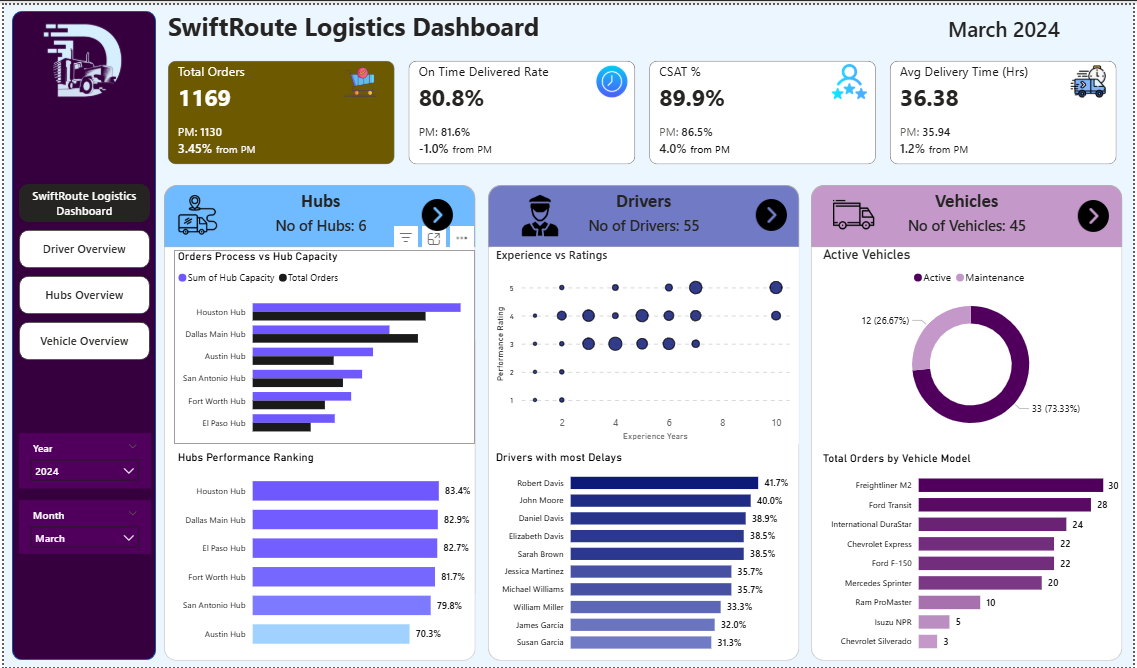

Layout of this report page (visuals, bound fields, positions):
{"tool":"powerbi","page":{"name":"SwiftRoute Logistics Dashboard","canvas":[1450,850],"ordinal":0},"visuals":[{"type":"textbox","box":[205.5,0,505.8,53.7],"z":0},{"type":"shape","box":[10.3,8,185,833.5],"z":1000},{"type":"cardVisual","fields":{"Data":["Orders.Total Orders","Orders.On Time Delivered Rate","Orders.CSAT %","Orders.Avg Delivery Time (Hrs)"]},"box":[205.3,61.8,1231.6,148.7],"z":2000},{"type":"slicer","fields":{"Values":["Date Table.Year"]},"box":[19.6,550,169,70.8],"z":3000},{"type":"slicer","fields":{"Values":["Date Table.Month"]},"box":[19.6,635.7,169,68.5],"z":4000},{"type":"shape","box":[205.5,230.6,400,610.8],"z":5000},{"type":"shape","box":[205.5,230.6,399.6,79.9],"z":6000},{"type":"shape","box":[621.1,230.6,399.6,610.8],"z":7000},{"type":"shape","box":[1036.7,230.6,399.6,610.8],"z":8000},{"type":"shape","box":[621.1,230.6,399.6,79.9],"z":9000},{"type":"shape","box":[1036.7,230.6,399.6,79.9],"z":10000},{"type":"textbox","box":[218.1,230.6,376.8,40],"z":11000},{"type":"textbox","box":[621.1,230.6,399.6,40],"z":12000},{"type":"textbox","box":[1036.7,230.6,399.6,40],"z":13000},{"type":"cardVisual","fields":{"Data":["Hubs.No of Hubs"]},"box":[301.4,260.3,210.1,41.1],"z":14000},{"type":"cardVisual","fields":{"Data":["Drivers.No of Drivers"]},"box":[715.9,260.3,210.1,41.1],"z":15000},{"type":"cardVisual","fields":{"Data":["Vehicles.No of Vehicles"]},"box":[1131.5,260.3,210.1,41.1],"z":16000},{"type":"clusteredBarChart","title":"Orders Process vs Hub Capacity","fields":{"Category":["Hubs.HubName"],"Y":["Sum(Hubs.Hub Capacity)","Orders.Total Orders"]},"box":[218.1,314,387,250],"z":17000},{"type":"barChart","title":"Hubs Performance Ranking","fields":{"Category":["Hubs.HubName"],"Y":["Orders.On Time Delivered Rate"]},"box":[218.1,573.1,387,268.3],"z":18000},{"type":"scatterChart","title":"Experience vs Ratings","fields":{"X":["Drivers.Experience Years"],"Y":["Drivers.Performance Rating"],"Size":["Sum(Drivers.Experience Years)1"]},"box":[626.8,310.6,393.9,253.5],"z":19000},{"type":"barChart","title":"Drivers with most Delays","fields":{"Category":["Drivers.DriverName"],"Y":["Orders.Delayed Delivery Rate"]},"box":[626.8,573.1,393.9,268.3],"z":20000},{"type":"donutChart","title":"Active Vehicles","fields":{"Category":["Vehicles.Vehicle Status"],"Y":["CountNonNull(Vehicles.Vehicle ID)"]},"box":[1046.1,310.5,389.5,253.9],"z":21000},{"type":"barChart","fields":{"Category":["Vehicles.Vehicle Model"],"Y":["Orders.Total Orders"]},"box":[1045.8,573.4,389.7,267.5],"z":22000},{"type":"image","box":[18.4,14.5,168.4,122.4],"z":23000},{"type":"cardVisual","fields":{"Data":["Orders.Year Month Title"]},"box":[1178.3,8,210.1,41.1],"z":24000},{"type":"image","box":[964.5,248.7,42.1,40.8],"z":25000},{"type":"image","box":[652.6,243.4,72.4,52.6],"z":26000},{"type":"image","box":[535.5,248.7,42.1,40.8],"z":27000},{"type":"image","box":[1377.6,250,42.1,40.8],"z":28000},{"type":"pageNavigator","box":[19.7,230.3,168.4,226.3],"z":29000},{"type":"image","box":[218.4,243.4,60.5,51.3],"z":30000},{"type":"image","box":[1057.9,76.3,55.3,44.7],"z":31000},{"type":"image","box":[757.9,76.3,46.1,44.7],"z":32000},{"type":"image","box":[422.4,76.3,69.7,44.7],"z":33000},{"type":"image","box":[1046.1,242.1,89.5,52.6],"z":34000},{"type":"image","box":[1363.2,76.3,56.6,44.7],"z":35000}]}

Visuals, with their boxes on the page's 1450x850 design canvas (x1, y1, x2, y2). These are canvas units, not pixel positions in the 1137x668 screenshot, which may show the page scaled, cropped or inside an application window:
textbox: region(206, 0, 711, 54)
shape: region(10, 8, 195, 842)
cardVisual - Orders.Total Orders x Orders.On Time Delivered Rate: region(205, 62, 1437, 210)
slicer - Date Table.Year: region(20, 550, 189, 621)
slicer - Date Table.Month: region(20, 636, 189, 704)
shape: region(206, 231, 606, 841)
shape: region(206, 231, 605, 310)
shape: region(621, 231, 1021, 841)
shape: region(1037, 231, 1436, 841)
shape: region(621, 231, 1021, 310)
shape: region(1037, 231, 1436, 310)
textbox: region(218, 231, 595, 271)
textbox: region(621, 231, 1021, 271)
textbox: region(1037, 231, 1436, 271)
cardVisual - Hubs.No of Hubs: region(301, 260, 512, 301)
cardVisual - Drivers.No of Drivers: region(716, 260, 926, 301)
cardVisual - Vehicles.No of Vehicles: region(1132, 260, 1342, 301)
"Orders Process vs Hub Capacity" clusteredBarChart: region(218, 314, 605, 564)
"Hubs Performance Ranking" barChart: region(218, 573, 605, 841)
"Experience vs Ratings" scatterChart: region(627, 311, 1021, 564)
"Drivers with most Delays" barChart: region(627, 573, 1021, 841)
"Active Vehicles" donutChart: region(1046, 310, 1436, 564)
barChart - Vehicles.Vehicle Model x Orders.Total Orders: region(1046, 573, 1436, 841)
image: region(18, 14, 187, 137)
cardVisual - Orders.Year Month Title: region(1178, 8, 1388, 49)
image: region(964, 249, 1007, 290)
image: region(653, 243, 725, 296)
image: region(536, 249, 578, 290)
image: region(1378, 250, 1420, 291)
pageNavigator: region(20, 230, 188, 457)
image: region(218, 243, 279, 295)
image: region(1058, 76, 1113, 121)
image: region(758, 76, 804, 121)
image: region(422, 76, 492, 121)
image: region(1046, 242, 1136, 295)
image: region(1363, 76, 1420, 121)
